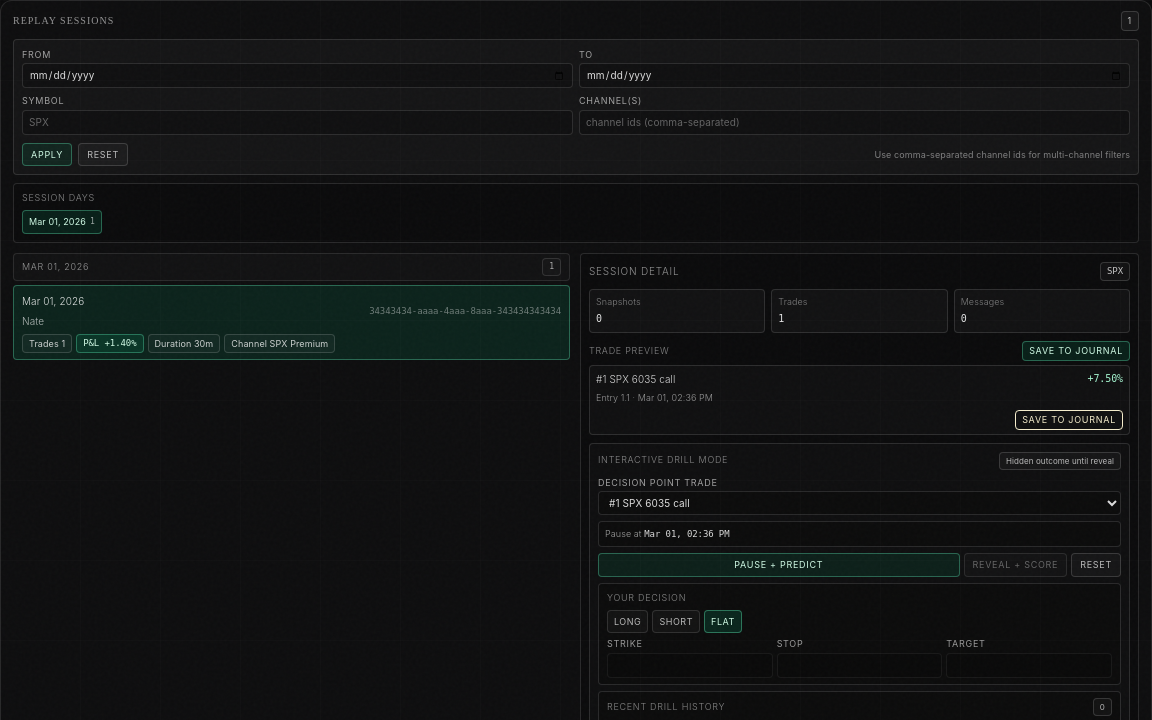
Test: spx-command-center/replay-session-browser › guards Save to Journal against duplicate rapid submits
The image size is (1152, 720).
Later steps or results of the test are not shown.
Check: the text "#1 SPX 6035 call" is shown, box left=596, top=370, right=676, bottom=388
Click the button with test id "spx-replay-save-journal-session". click: (1076, 351)
box: left=1022, top=341, right=1130, bottom=361
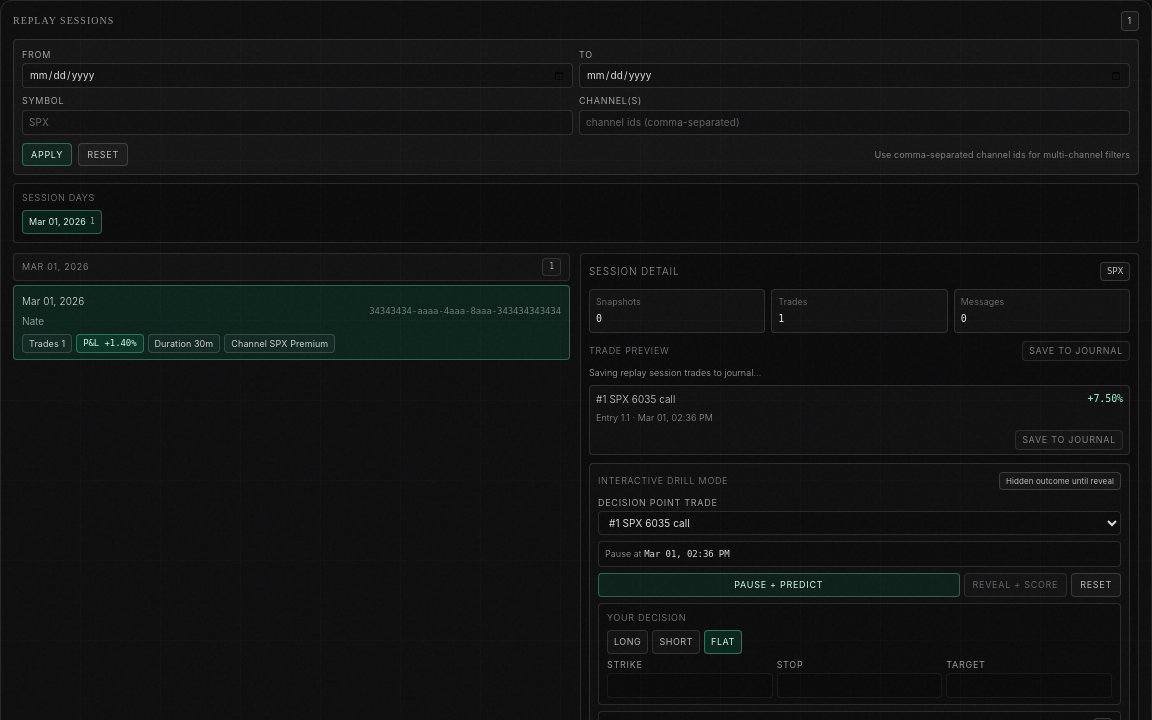
Click the button with test id "spx-replay-save-journal-session". click: (1076, 351)
box: left=1022, top=341, right=1130, bottom=361
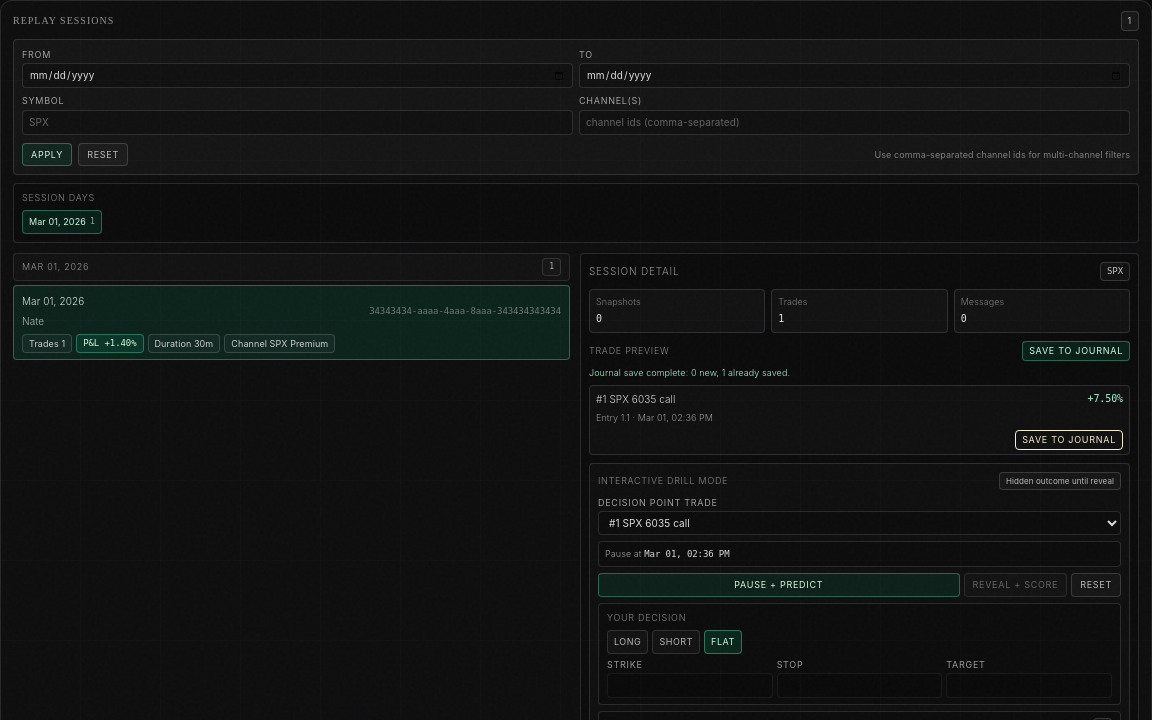
Check: the text with test id "spx-replay-save-journal-status" reads "Journal save complete: 0 new, 1 already saved.", box left=589, top=367, right=790, bottom=378
